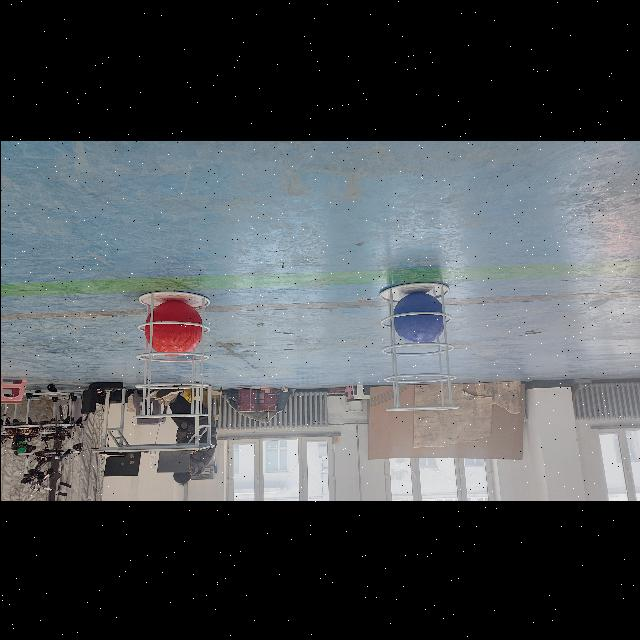B: (392, 292, 444, 344)
R: (144, 298, 202, 356)
S: (374, 278, 462, 414), (130, 286, 212, 422)
